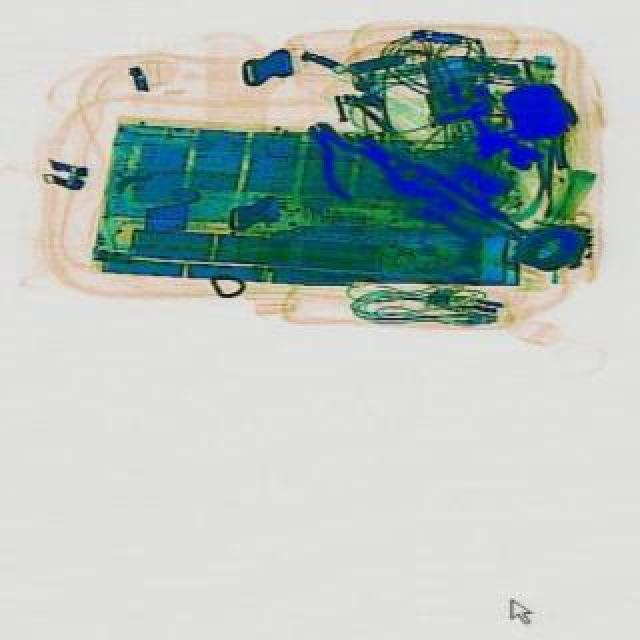wrench: (286, 104, 394, 208)
